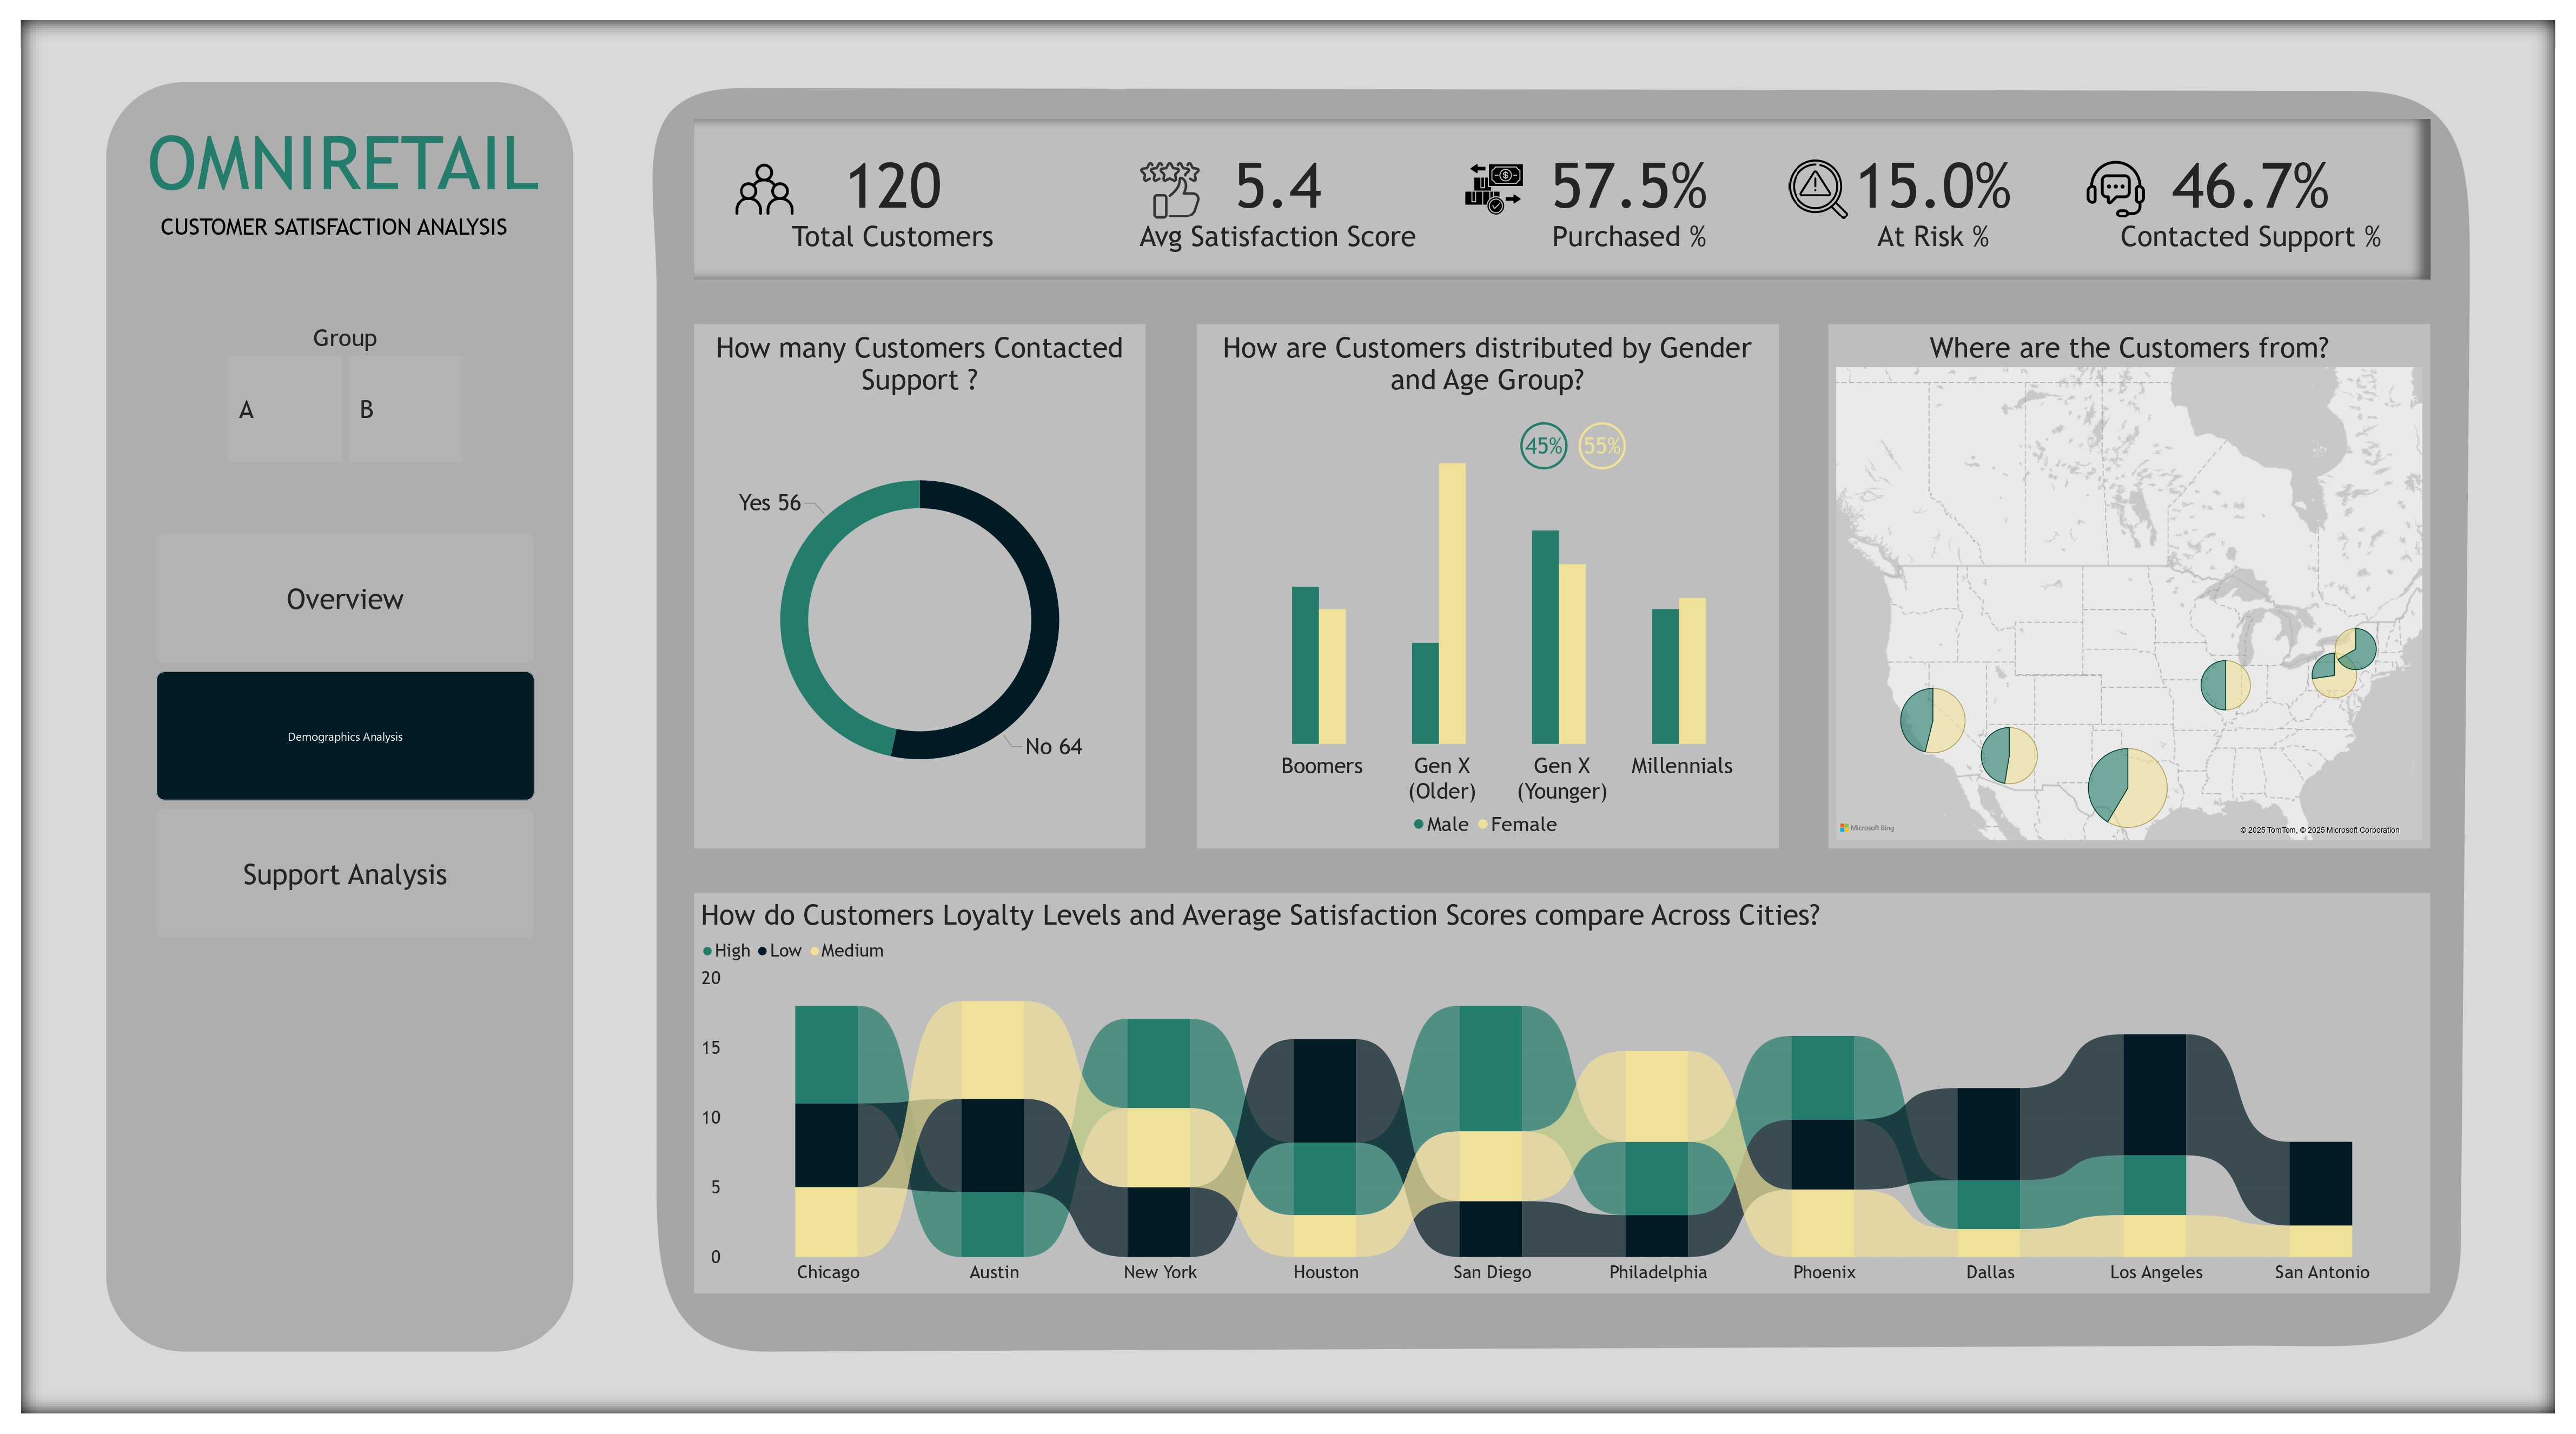

The dashboard page shown, as its layout file describes it:
{"tool":"powerbi","page":{"name":"Demographics Analysis","canvas":[3000,1650],"ordinal":1},"visuals":[{"type":"card","title":"Total Customers","fields":{"Values":["DAX.Total Customers"]},"box":[816,128,432,160],"z":0},{"type":"image","box":[832,160,96,80],"z":1000},{"type":"card","fields":{"Values":["DAX.Avg Satisfaction Score"]},"box":[1264,128,448,160],"z":2000},{"type":"image","box":[1312,160,96,80],"z":3000},{"type":"card","fields":{"Values":["DAX.Repeat Customer %"]},"box":[1744,128,320,160],"z":4000},{"type":"card","fields":{"Values":["DAX.% of Customers at Risk"]},"box":[2112,128,304,160],"z":5000},{"type":"card","fields":{"Values":["DAX.Contacted Support %"]},"box":[2432,128,416,160],"z":6000},{"type":"image","box":[2080,160,96,80],"z":7000},{"type":"image","box":[2432,160,96,80],"z":8000},{"type":"image","box":[1696,160,96,80],"z":9000},{"type":"donutChart","title":"How many Customers Contacted Support ?","fields":{"Category":["Support Contacted.Support_Contacted"],"Y":["DAX.Total Customers"]},"box":[800,368,528,608],"z":10000},{"type":"clusteredColumnChart","title":"How are Customers distributed by Gender and Age Group?","fields":{"Category":["Customer Fact.Age Group"],"Y":["DAX.Total Customers"],"Series":["Gender.Gender"]},"box":[1408,368,656,608],"z":11000},{"type":"donutChart","fields":{"Y":["DAX.% of Male Customer"]},"box":[1744,464,118,80],"z":12000},{"type":"card","fields":{"Values":["DAX.% of Male Customer"]},"box":[1776,464,54,80],"z":13000},{"type":"donutChart","fields":{"Y":["DAX.% of Male Customer"]},"box":[1808,464,128,80],"z":14000},{"type":"card","fields":{"Values":["DAX.% of Female Customer"]},"box":[1840,464,64,80],"z":15000},{"type":"map","title":"Where are the Customers from?","fields":{"Category":["State.State"],"Size":["DAX.Total Customers"],"Series":["Gender.Gender"]},"box":[2144,368,704,608],"z":16000},{"type":"ribbonChart","title":"How do Customers Loyalty Levels and Average Satisfaction Scores compare Across Cities?","fields":{"Category":["City.City"],"Y":["DAX.Avg Satisfaction Score"],"Series":["Loyalty Level.Loyalty_Level"]},"box":[800,1040,2048,464],"z":17000},{"type":"textbox","box":[160,224,480,64],"z":18000},{"type":"textbox","box":[144,112,496,128],"z":19000},{"type":"pageNavigator","box":[160,608,448,480],"z":20000},{"type":"advancedSlicerVisual","fields":{"Values":["Group.Group"]},"box":[240,360,288,168],"z":21000}]}

Visuals, with their boxes in screenshot pixels (x1, y1, x2, y2):
"Total Customers" card: 710, 128, 1075, 263
image: 724, 155, 805, 223
card - DAX.Avg Satisfaction Score: 1089, 128, 1467, 263
image: 1129, 155, 1210, 223
card - DAX.Repeat Customer %: 1494, 128, 1765, 263
card - DAX.% of Customers at Risk: 1805, 128, 2062, 263
card - DAX.Contacted Support %: 2076, 128, 2427, 263
image: 1778, 155, 1859, 223
image: 2076, 155, 2157, 223
image: 1454, 155, 1535, 223
"How many Customers Contacted Support ?" donutChart: 697, 331, 1143, 845
"How are Customers distributed by Gender and Age Group?" clusteredColumnChart: 1210, 331, 1765, 845
donutChart - DAX.% of Male Customer: 1494, 412, 1594, 480
card - DAX.% of Male Customer: 1521, 412, 1567, 480
donutChart - DAX.% of Male Customer: 1548, 412, 1657, 480
card - DAX.% of Female Customer: 1575, 412, 1630, 480
"Where are the Customers from?" map: 1832, 331, 2427, 845
"How do Customers Loyalty Levels and Average Satisfaction Scores compare Across Cities?" ribbonChart: 697, 899, 2427, 1290
textbox: 156, 209, 561, 263
textbox: 142, 115, 561, 223
pageNavigator: 156, 534, 534, 939
advancedSlicerVisual - Group.Group: 223, 324, 467, 466
